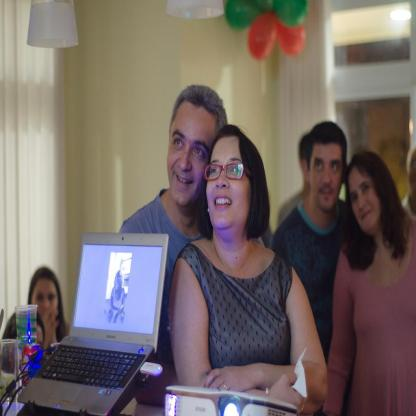board: (22, 237, 163, 411)
